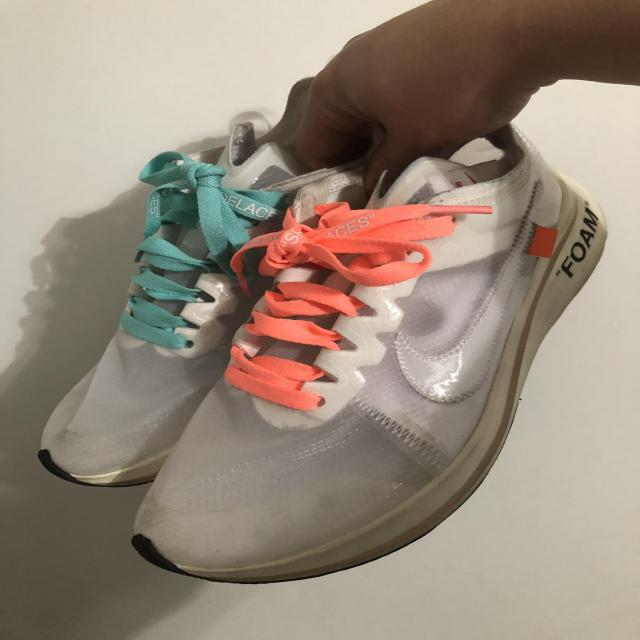shoe: (150, 126, 640, 579), (0, 16, 388, 478)
